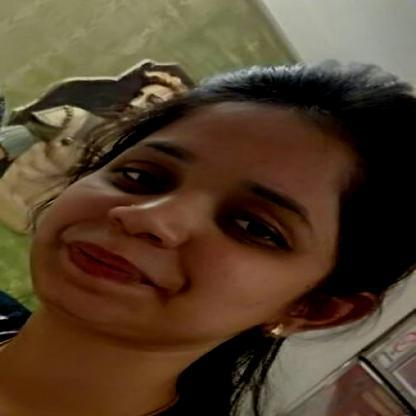without_mask: (32, 111, 319, 329)
